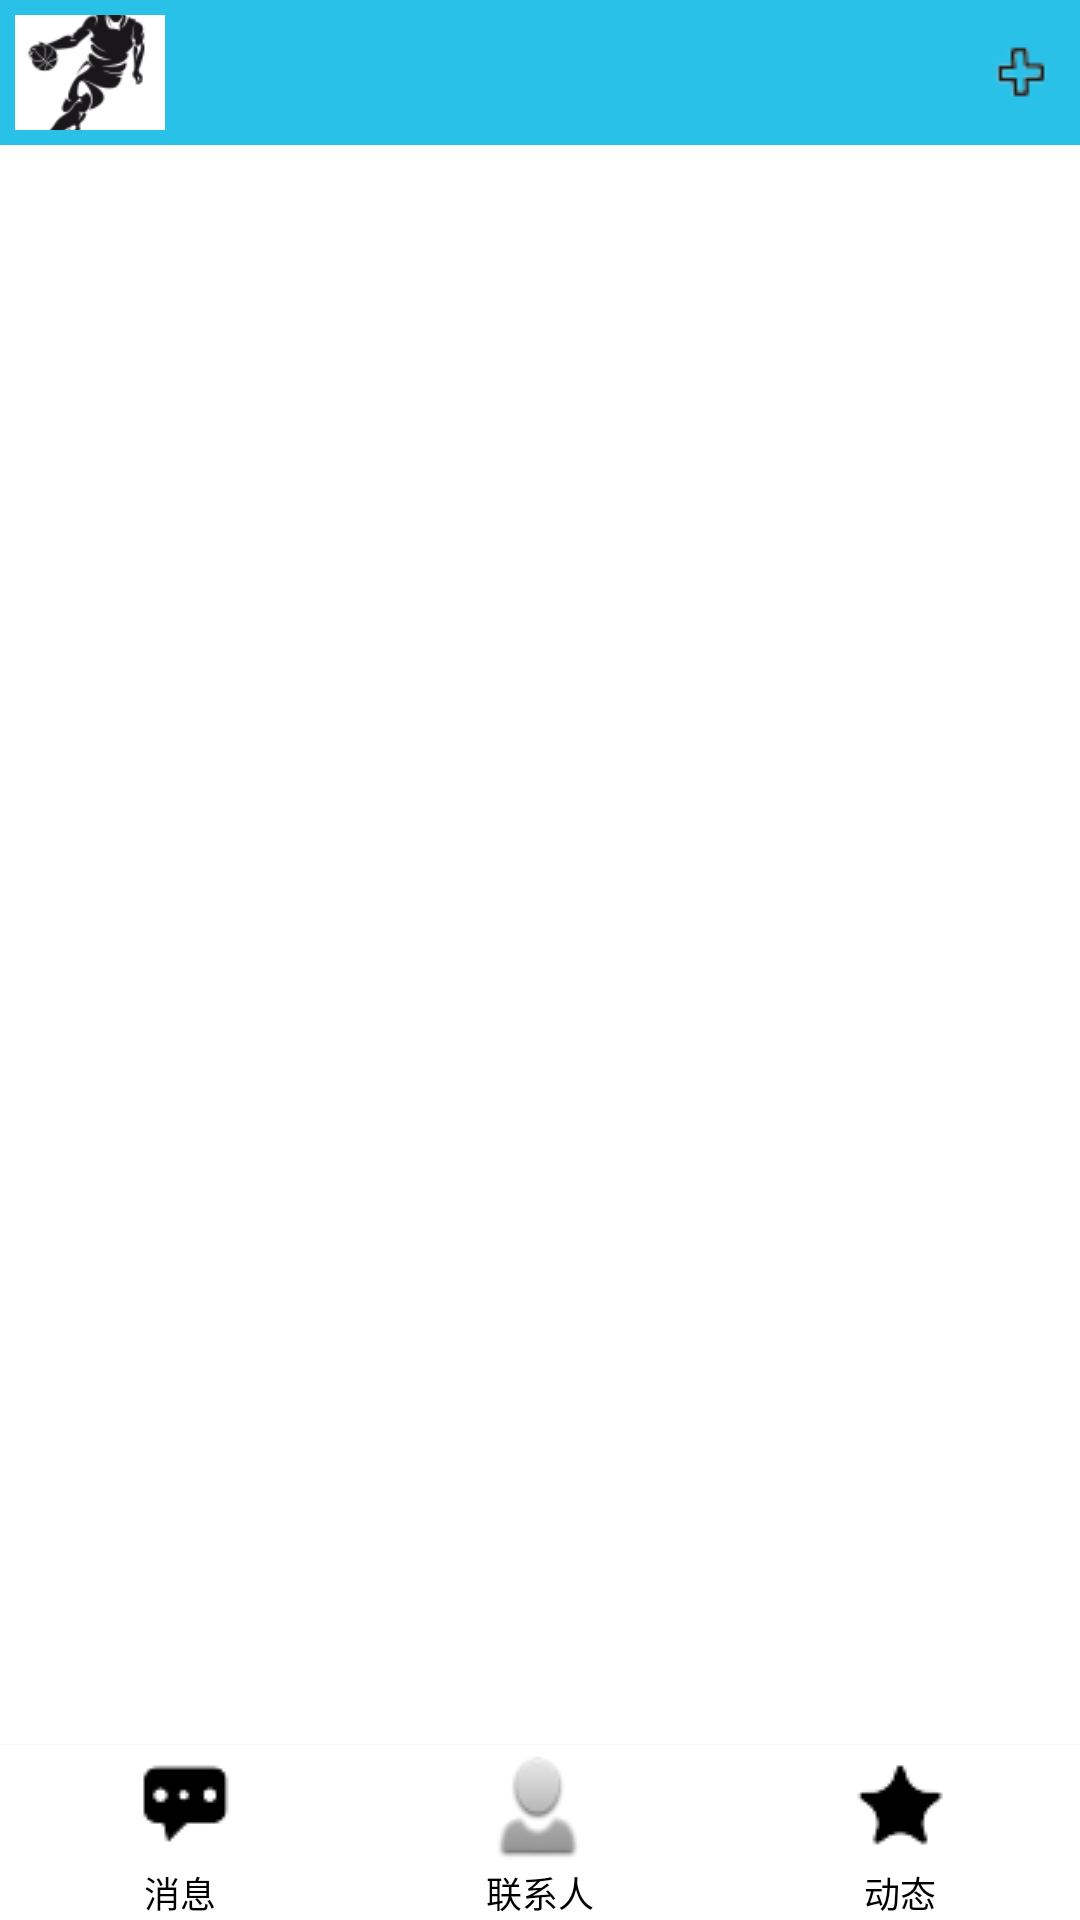

Icons on this 1080 x 1920 Android screen, each with its box as box=[x1, y1, x2, y2]:
add: box=[996, 47, 1045, 97]
head portrait: box=[15, 15, 165, 130]
